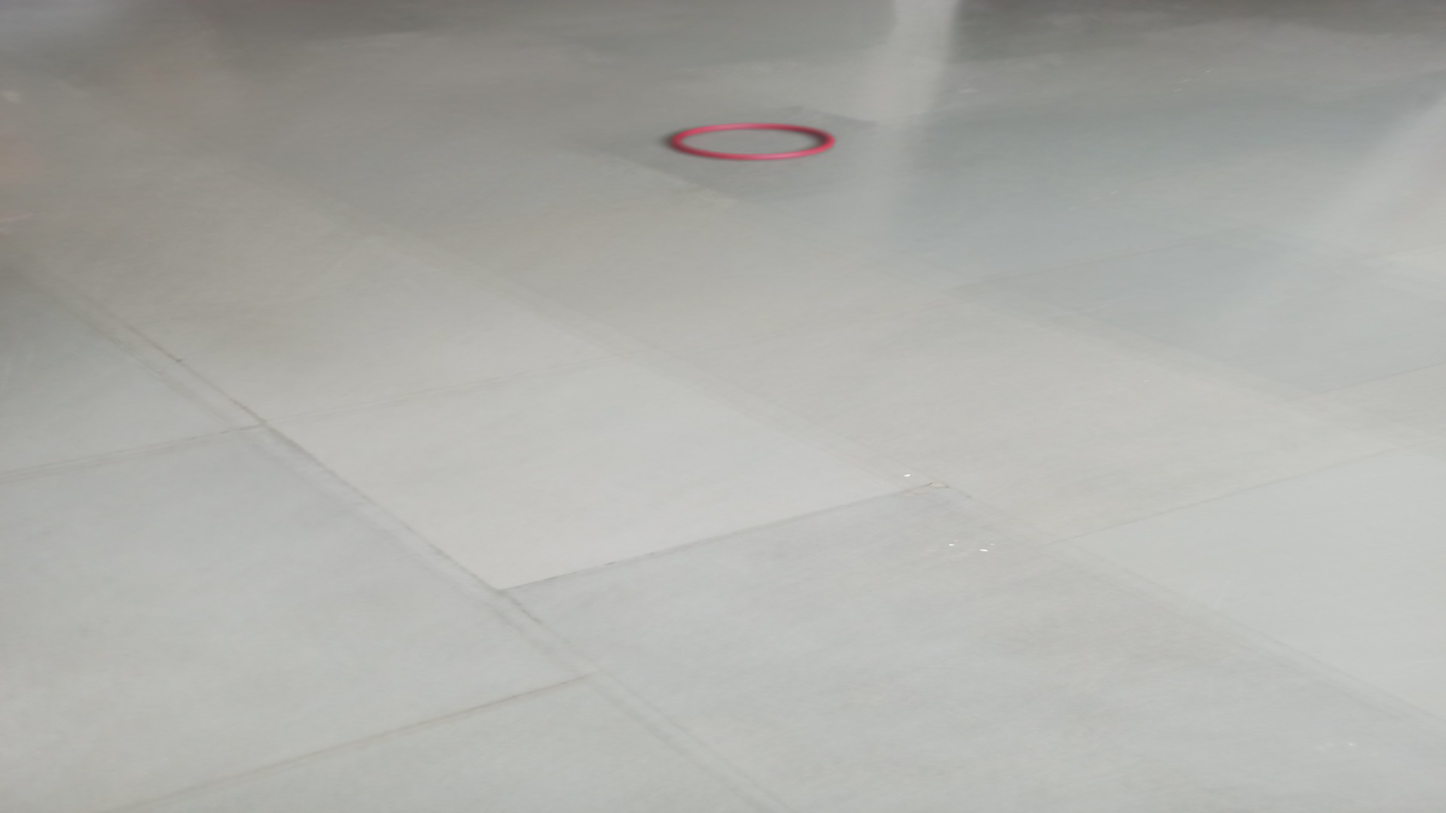Red ring: (667, 120, 840, 163)
